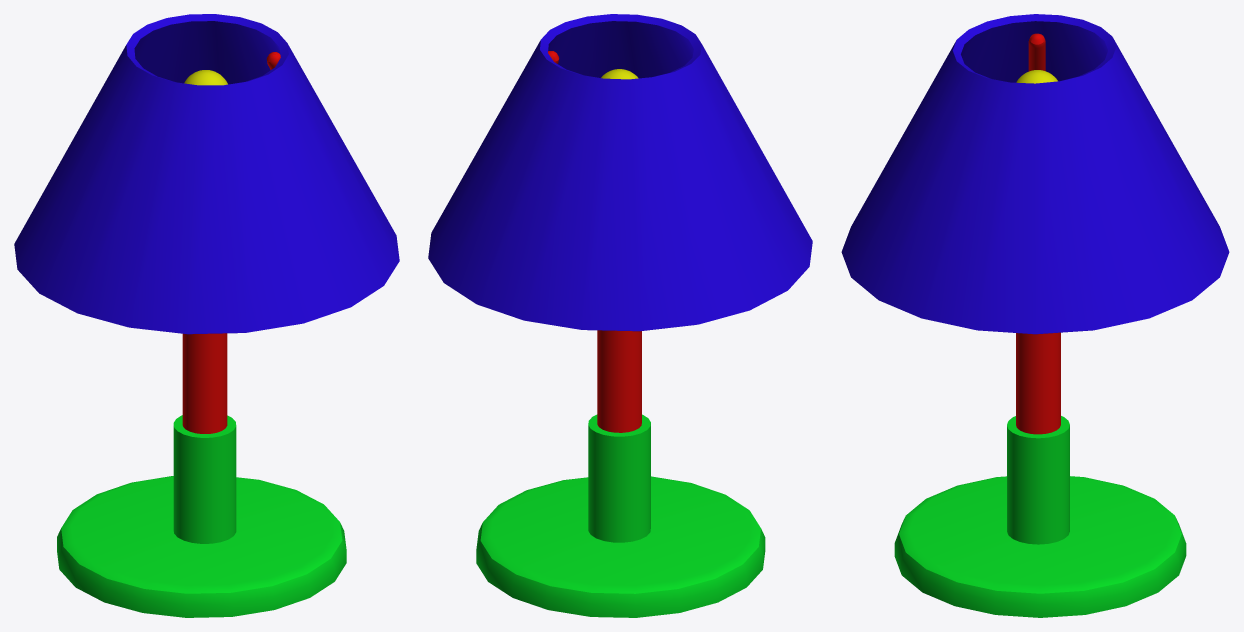
Rendered from lamp_finish.fbx.
The picture shows the model from 3 angles, left to right: view 1: azimuth 30°, elevation 25°; view 2: azimuth 150°, elevation 25°; view 3: azimuth 270°, elevation 25°; orthographic projection.
Visible parts, largest first — view 1: pCone2; view 2: pCone2; view 3: pCone2.
Boxes of the visible parts, left/top/right/bottom form: pCone2: left=14, top=14, right=399, bottom=617; pCone2: left=428, top=14, right=812, bottom=617; pCone2: left=841, top=14, right=1229, bottom=617.
Bounding box in the file's own units: 1.31 × 1.91 × 1.31.
